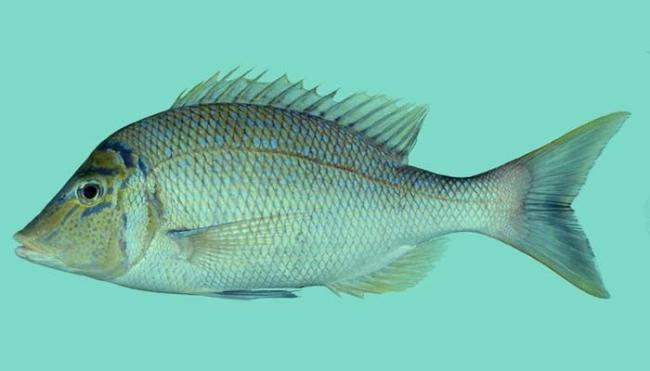fish: (12, 66, 631, 302)
